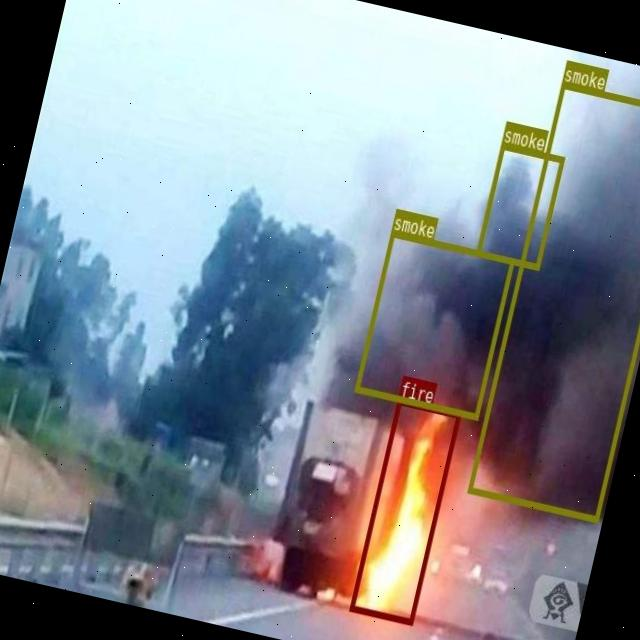fire: (348, 396, 461, 624)
smoke: (467, 80, 640, 521), (354, 230, 514, 418), (475, 142, 563, 268)
